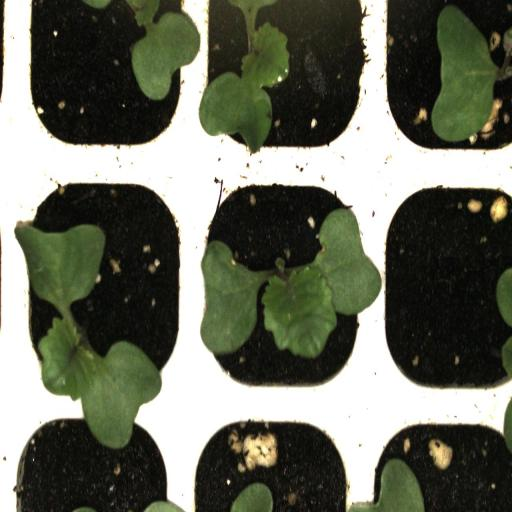seedling: (190, 170, 376, 403), (15, 169, 190, 402), (189, 3, 376, 168)
